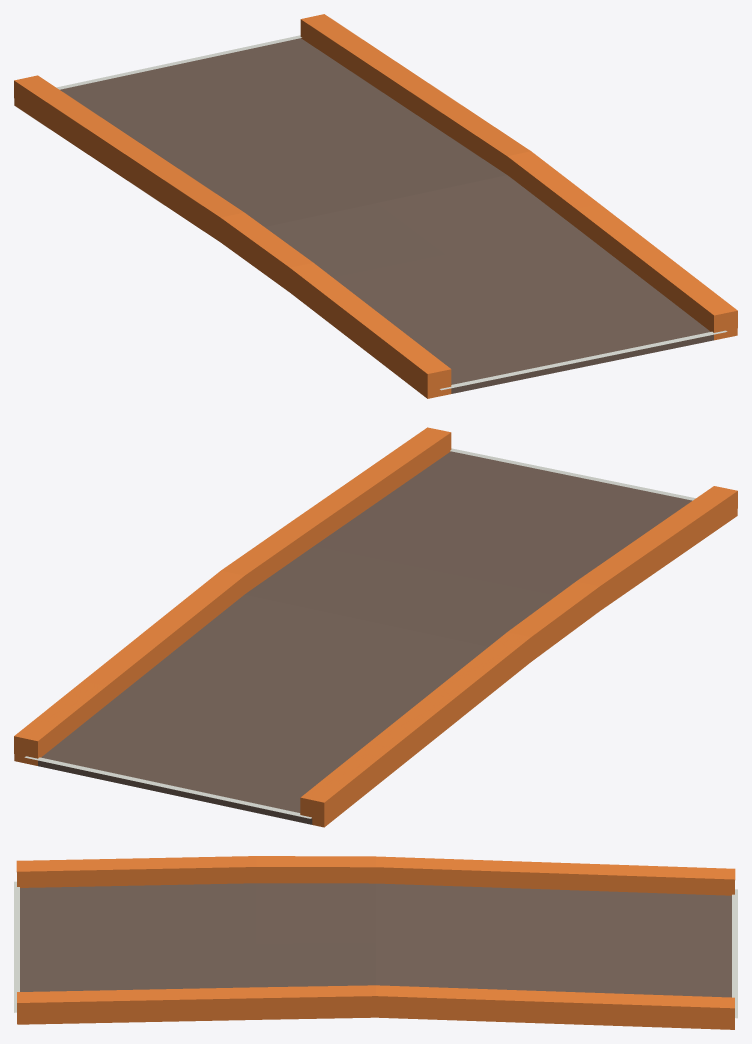
Rendered from SM_MP_Film_B_1_1.fbx.
The picture shows the model from 3 angles, top to bottom: view 1: azimuth 30°, elevation 25°; view 2: azimuth 150°, elevation 25°; view 3: azimuth 270°, elevation 25°; orthographic projection. The views are drawn at different scales.
Visible parts, largest first — view 1: SM_MP_Film_B_1_1; view 2: SM_MP_Film_B_1_1; view 3: SM_MP_Film_B_1_1.
Part boxes in pixels (left/top/right/bottom): SM_MP_Film_B_1_1: left=14, top=14, right=737, bottom=398; SM_MP_Film_B_1_1: left=14, top=427, right=737, bottom=827; SM_MP_Film_B_1_1: left=14, top=856, right=737, bottom=1029.
Size of what is drawn, in the model's own units: 260 by 605 by 39.17.
